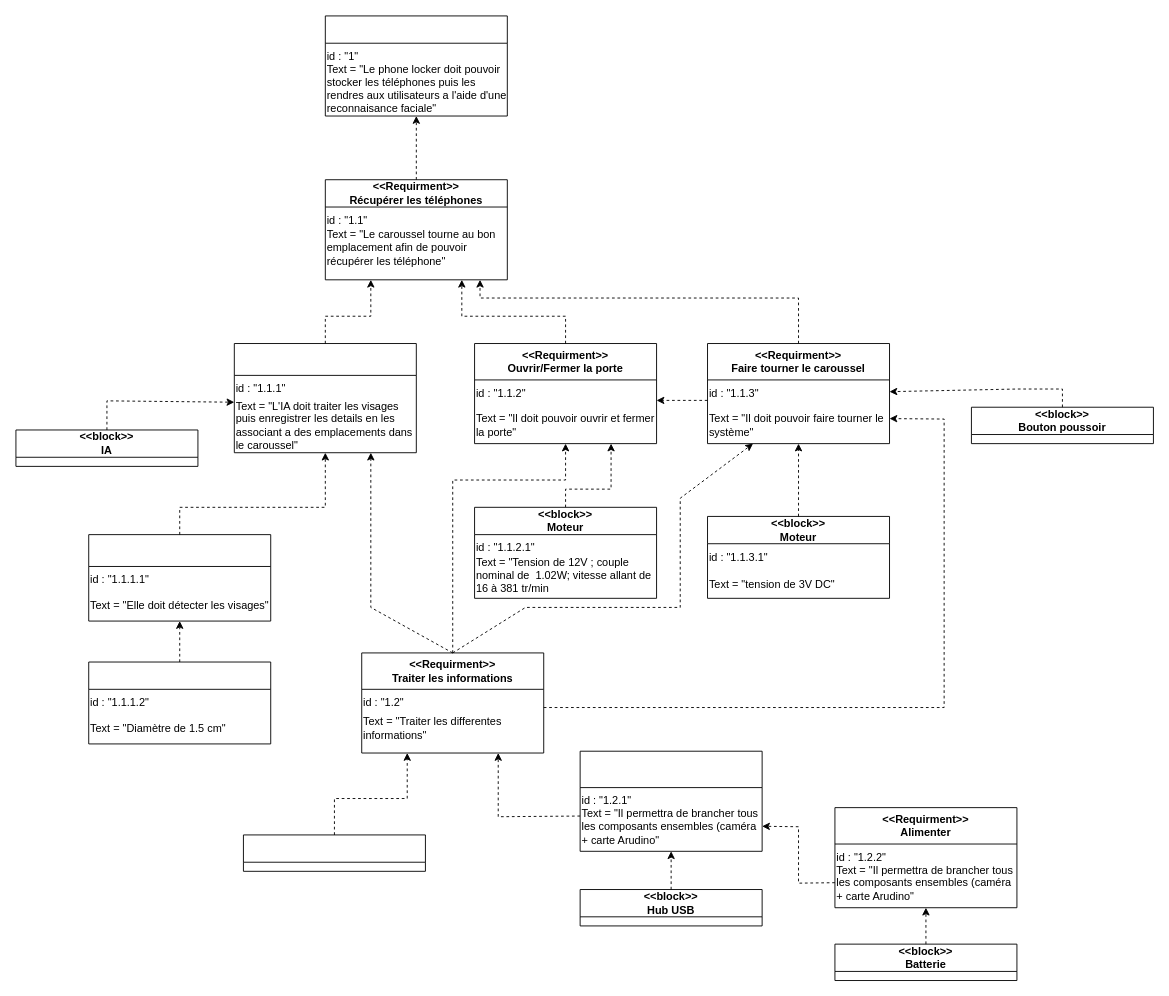
Image size: 1169x996. Some labels were removed from this diagram. Here are the shapes that lost their labels. From the top down, the box of each, then its label:
(324, 15, 507, 116): <<Requirment>> Stocker les téléphones
(233, 343, 416, 453): <<Requirment>> enregister les empreinte faciales
(88, 534, 271, 621): <<Requirment>> détecter les visages
(88, 661, 271, 744): <<block>> Caméra
(579, 750, 762, 851): <<Requirment>> connecter les composants
(243, 834, 425, 871): <<block>> Carte Arduino Uno
